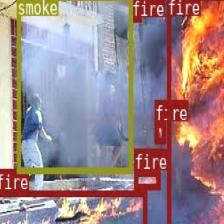fire: (166, 0, 224, 224), (0, 189, 146, 223), (134, 170, 160, 188), (154, 121, 165, 143), (131, 0, 141, 21)
smoke: (16, 0, 132, 172)
